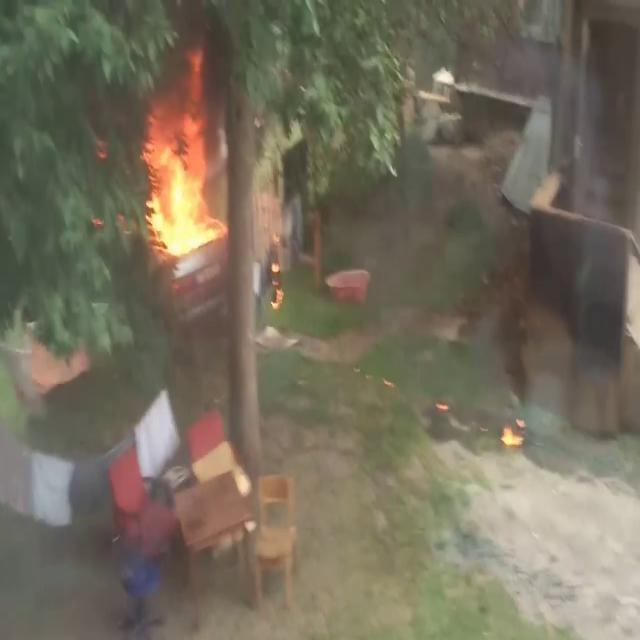Fire: (130, 66, 230, 274), (499, 415, 527, 449)
Smoke: (472, 1, 640, 413)
